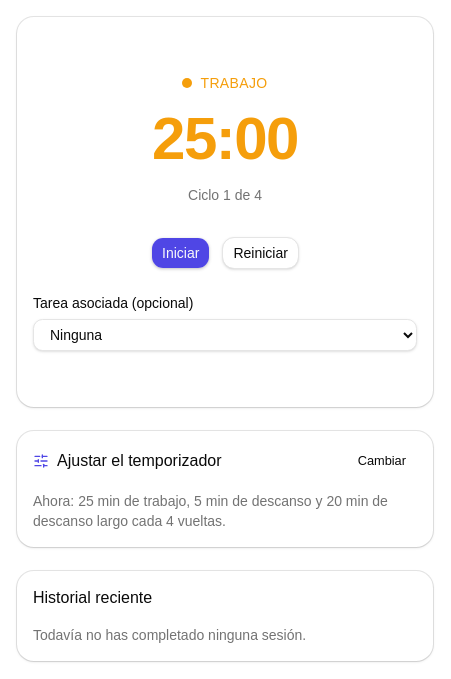
it: PaginaPomodoro › al pulsar Iniciar, el botón pasa a Pausar
Click the button "Iniciar" at (181, 253), box [151,237,210,269]
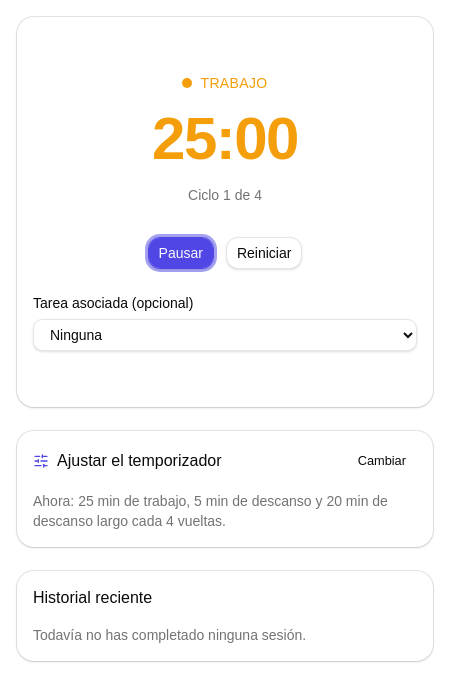
Check: the button "Pausar" is shown, box [148,237,214,269]
